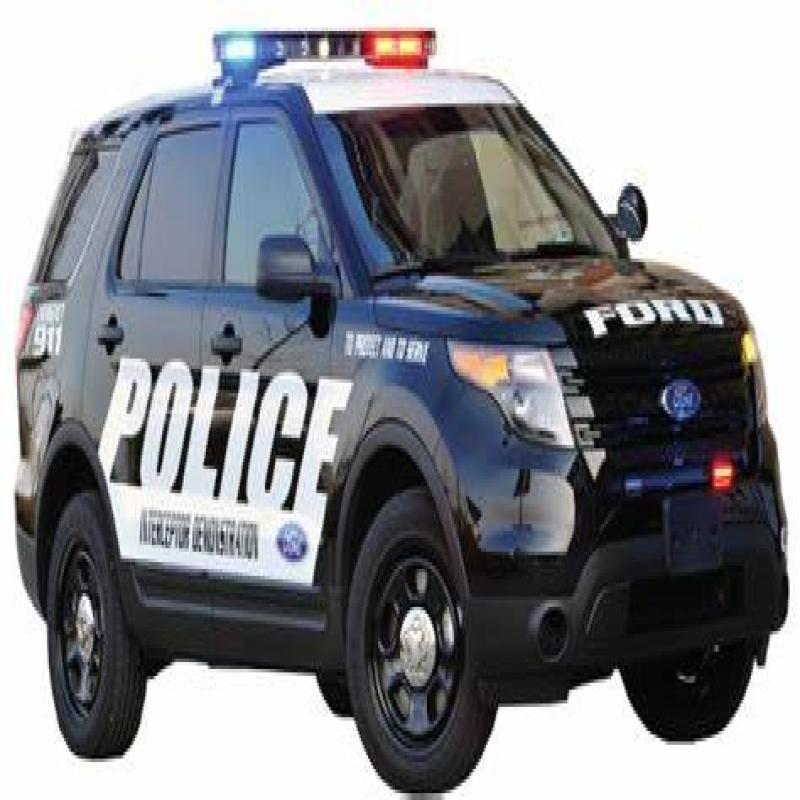AmbulanceSiren: (199, 25, 432, 96)
car: (22, 90, 774, 736)
